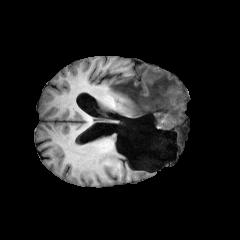glioma: (109, 65, 184, 127)
